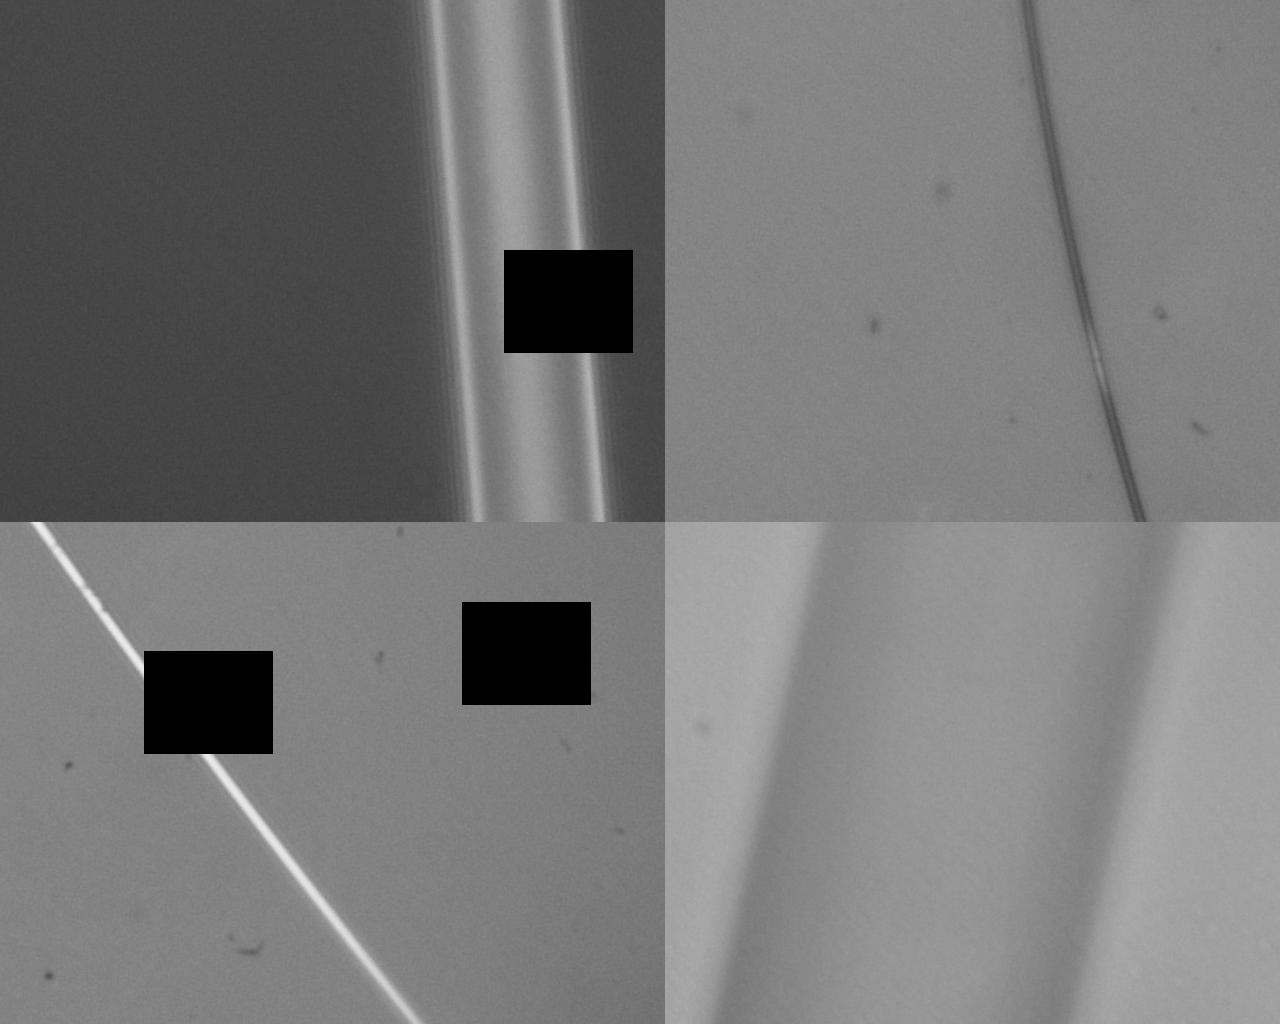fiber: (409, 365, 1188, 788)
